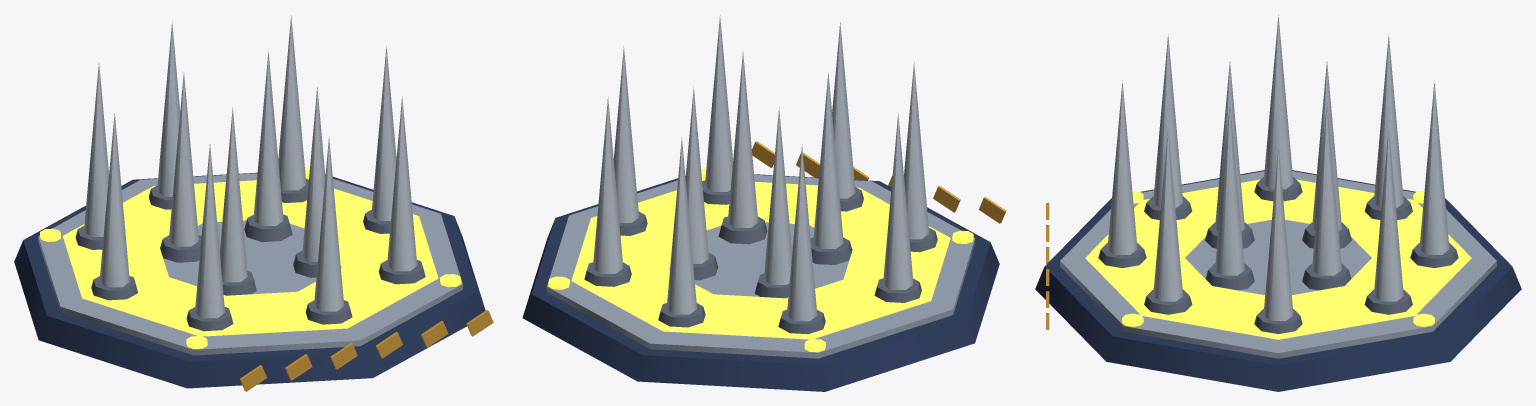
The model's file is trap_spike_triggered.glb.
3 views of the same model, side by side, from view 1: azimuth 30°, elevation 25°; view 2: azimuth 150°, elevation 25°; view 3: azimuth 270°, elevation 25° (orthographic).
Parts seen in each view (by area): view 1: trap_spike_flash, trap_spike_plate, trap_spike_plate_rim, trap_spike_tip5, trap_spike_tip7, trap_spike_tip8, trap_spike_tip6, trap_spike_tip2, trap_spike_tip3, trap_spike_tip11, trap_spike_tip1, trap_spike_tip4 (+12 smaller); view 2: trap_spike_flash, trap_spike_plate, trap_spike_plate_rim, trap_spike_tip9, trap_spike_tip10, trap_spike_tip11, trap_spike_tip8, trap_spike_tip1, trap_spike_tip0, trap_spike_tip5, trap_spike_tip2, trap_spike_tip7 (+12 smaller); view 3: trap_spike_flash, trap_spike_plate, trap_spike_plate_rim, trap_spike_tip0, trap_spike_tip3, trap_spike_tip5, trap_spike_tip11, trap_spike_tip4, trap_spike_tip6, trap_spike_tip10, trap_spike_tip8, trap_spike_tip7 (+15 smaller).
Part boxes in pixels (<box>): trap_spike_flash: <box>62,180,438,336</box>; trap_spike_plate: <box>14,172,485,388</box>; trap_spike_plate_rim: <box>38,173,462,355</box>; trap_spike_tip5: <box>387,96,417,271</box>; trap_spike_tip7: <box>195,144,224,318</box>; trap_spike_tip8: <box>99,113,129,287</box>; trap_spike_tip6: <box>314,136,344,311</box>; trap_spike_tip2: <box>168,72,198,246</box>; trap_spike_tip3: <box>253,50,283,225</box>; trap_spike_tip11: <box>278,15,306,190</box>; trap_spike_tip1: <box>219,107,247,282</box>; trap_spike_tip4: <box>371,45,396,220</box>; trap_spike_flash: <box>571,182,950,339</box>; trap_spike_plate: <box>522,174,999,391</box>; trap_spike_plate_rim: <box>547,174,975,358</box>; trap_spike_tip9: <box>786,144,817,321</box>; trap_spike_tip10: <box>666,137,697,314</box>; trap_spike_tip11: <box>592,97,623,273</box>; trap_spike_tip8: <box>883,113,913,289</box>; trap_spike_tip1: <box>813,72,843,248</box>; trap_spike_tip0: <box>727,51,758,227</box>; trap_spike_tip5: <box>705,15,732,191</box>; trap_spike_tip2: <box>764,107,792,284</box>; trap_spike_tip7: <box>904,62,929,239</box>; trap_spike_flash: <box>1085,179,1471,339</box>; trap_spike_plate: <box>1035,170,1521,391</box>; trap_spike_plate_rim: <box>1060,171,1496,358</box>; trap_spike_tip0: <box>1215,102,1244,275</box>; trap_spike_tip3: <box>1312,102,1341,275</box>; trap_spike_tip5: <box>1153,127,1183,301</box>; trap_spike_tip11: <box>1373,127,1403,301</box>; trap_spike_tip4: <box>1263,146,1293,320</box>; trap_spike_tip6: <box>1107,80,1137,254</box>; trap_spike_tip10: <box>1419,80,1449,254</box>; trap_spike_tip8: <box>1263,14,1293,189</box>; trap_spike_tip7: <box>1153,34,1183,208</box>.
Bounding box in the file's own units: 1.56 × 0.74 × 1.56.
